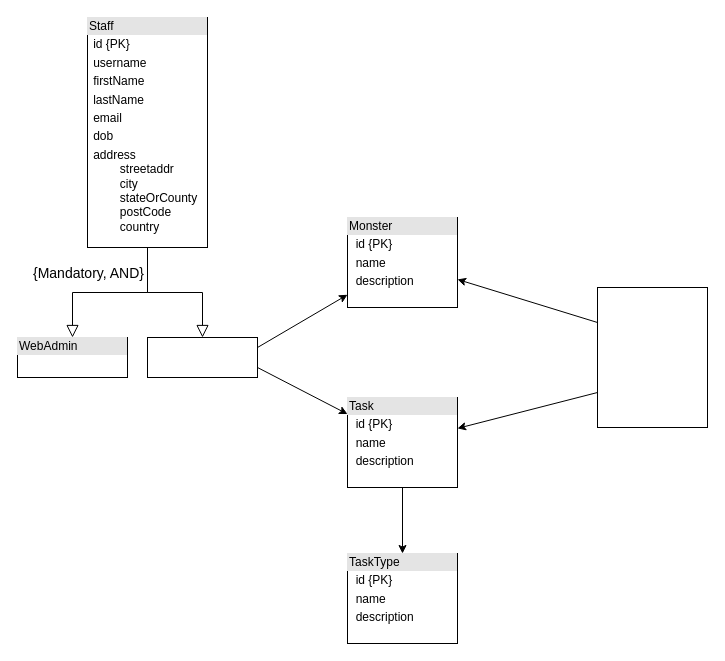
Image size: 725x661. Some labels were removed from this diagram. The centre of each missing label's shape, as x and y in pixels:
"GameMaster" goes at [202,357].
"User id {PK} username firstName lastName email" goes at [652,357].
